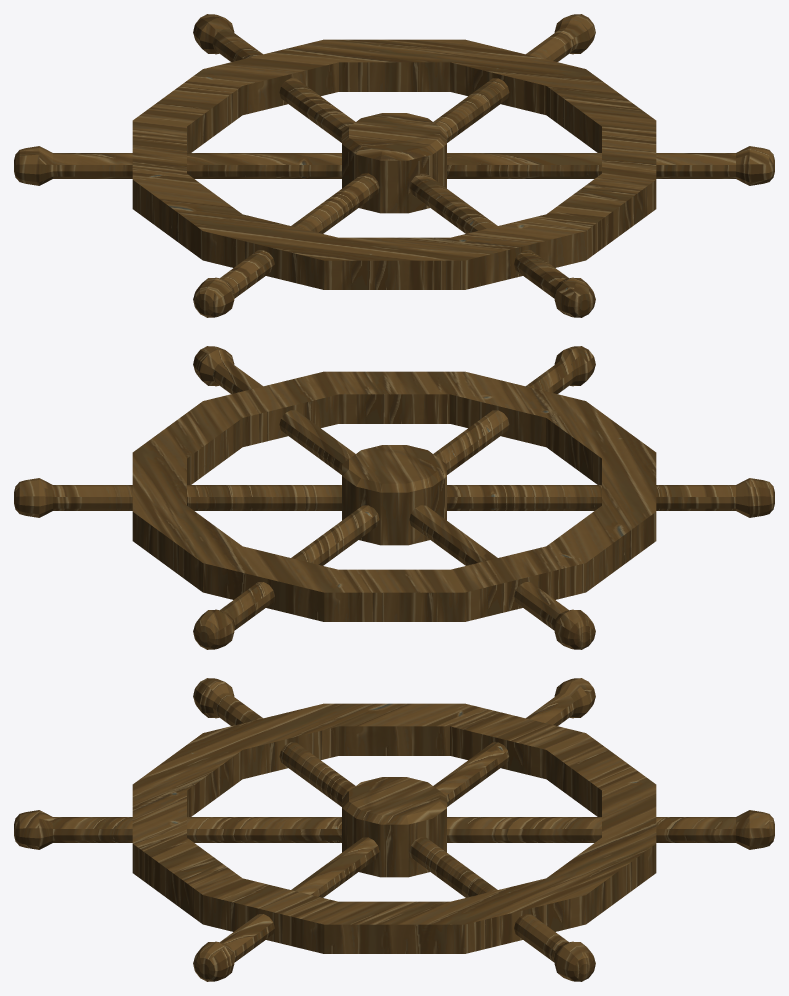
Rendered from Wheel.glb.
The picture shows the model from 3 angles, top to bottom: view 1: azimuth 30°, elevation 25°; view 2: azimuth 150°, elevation 25°; view 3: azimuth 270°, elevation 25°; orthographic projection.
Visible parts, largest first — view 1: Pirate Boat Wheel; view 2: Pirate Boat Wheel; view 3: Pirate Boat Wheel.
Boxes of the visible parts, x1,y1,x2,y2 form: Pirate Boat Wheel: (14, 14, 774, 317); Pirate Boat Wheel: (14, 346, 774, 649); Pirate Boat Wheel: (14, 678, 774, 981).
Size of what is drawn, in the model's own units: 3.49 by 0.3394 by 3.97.
1 material, 1 textured.
